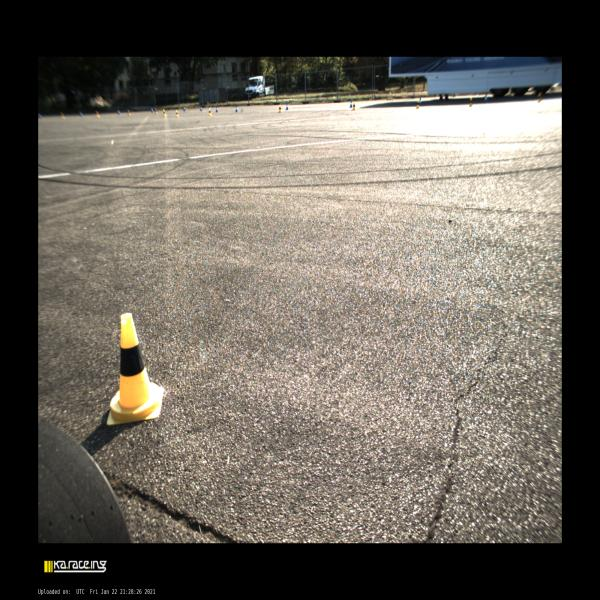blue_cone: (419, 98, 422, 105), (484, 95, 487, 102), (235, 106, 238, 112), (215, 106, 218, 112), (286, 103, 288, 110), (350, 101, 352, 107), (200, 106, 202, 111), (184, 107, 186, 111), (151, 109, 153, 112)
yellow_cone: (107, 312, 164, 425), (469, 98, 473, 107), (278, 105, 282, 113), (416, 101, 419, 109), (352, 102, 355, 110), (208, 109, 212, 115), (176, 110, 179, 117), (164, 110, 167, 117), (155, 109, 157, 114), (128, 111, 130, 115)
